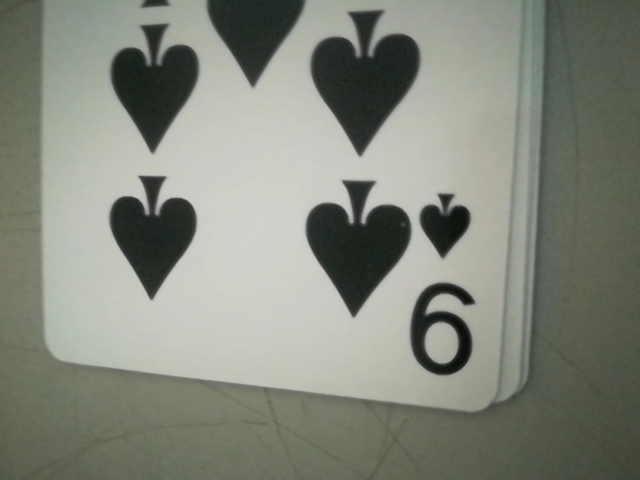ht 9: (406, 183, 483, 383)
